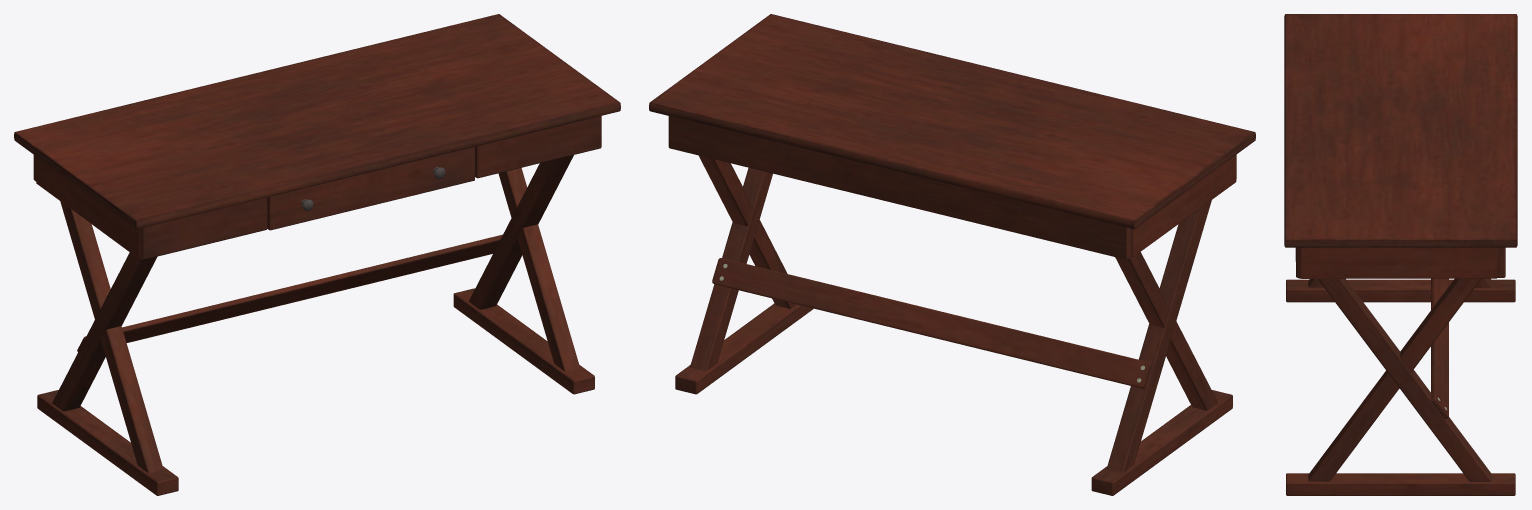
3 renders of one model, left to right at view 1: azimuth 30°, elevation 25°; view 2: azimuth 150°, elevation 25°; view 3: azimuth 270°, elevation 25°, orthographic. The views are drawn at different scales.
Parts seen in each view (by area): view 1: RootNode; view 2: RootNode; view 3: RootNode.
Part boxes in pixels (x1,y1,x2,y2): RootNode: (14, 14, 620, 495); RootNode: (649, 14, 1255, 495); RootNode: (1284, 14, 1517, 495).
Size of the model in its own units: 1.37 by 0.7612 by 0.5997.
Materials: 1 (1 with a texture image).
